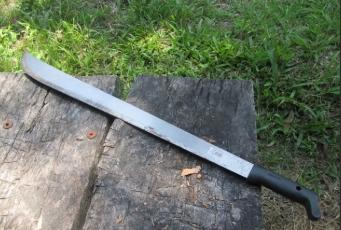MACHETTE: (0, 47, 324, 230)
